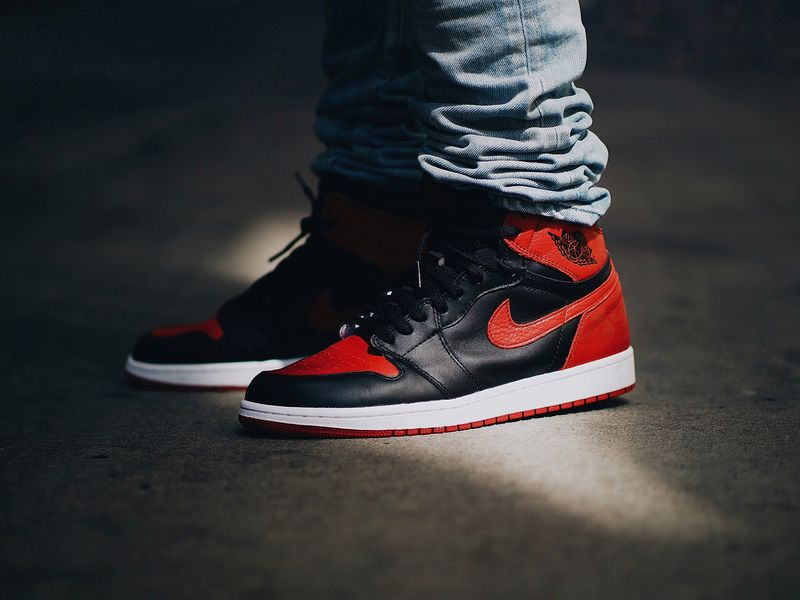Air Jordan 1 Bred: (234, 167, 648, 446), (115, 147, 507, 401)
